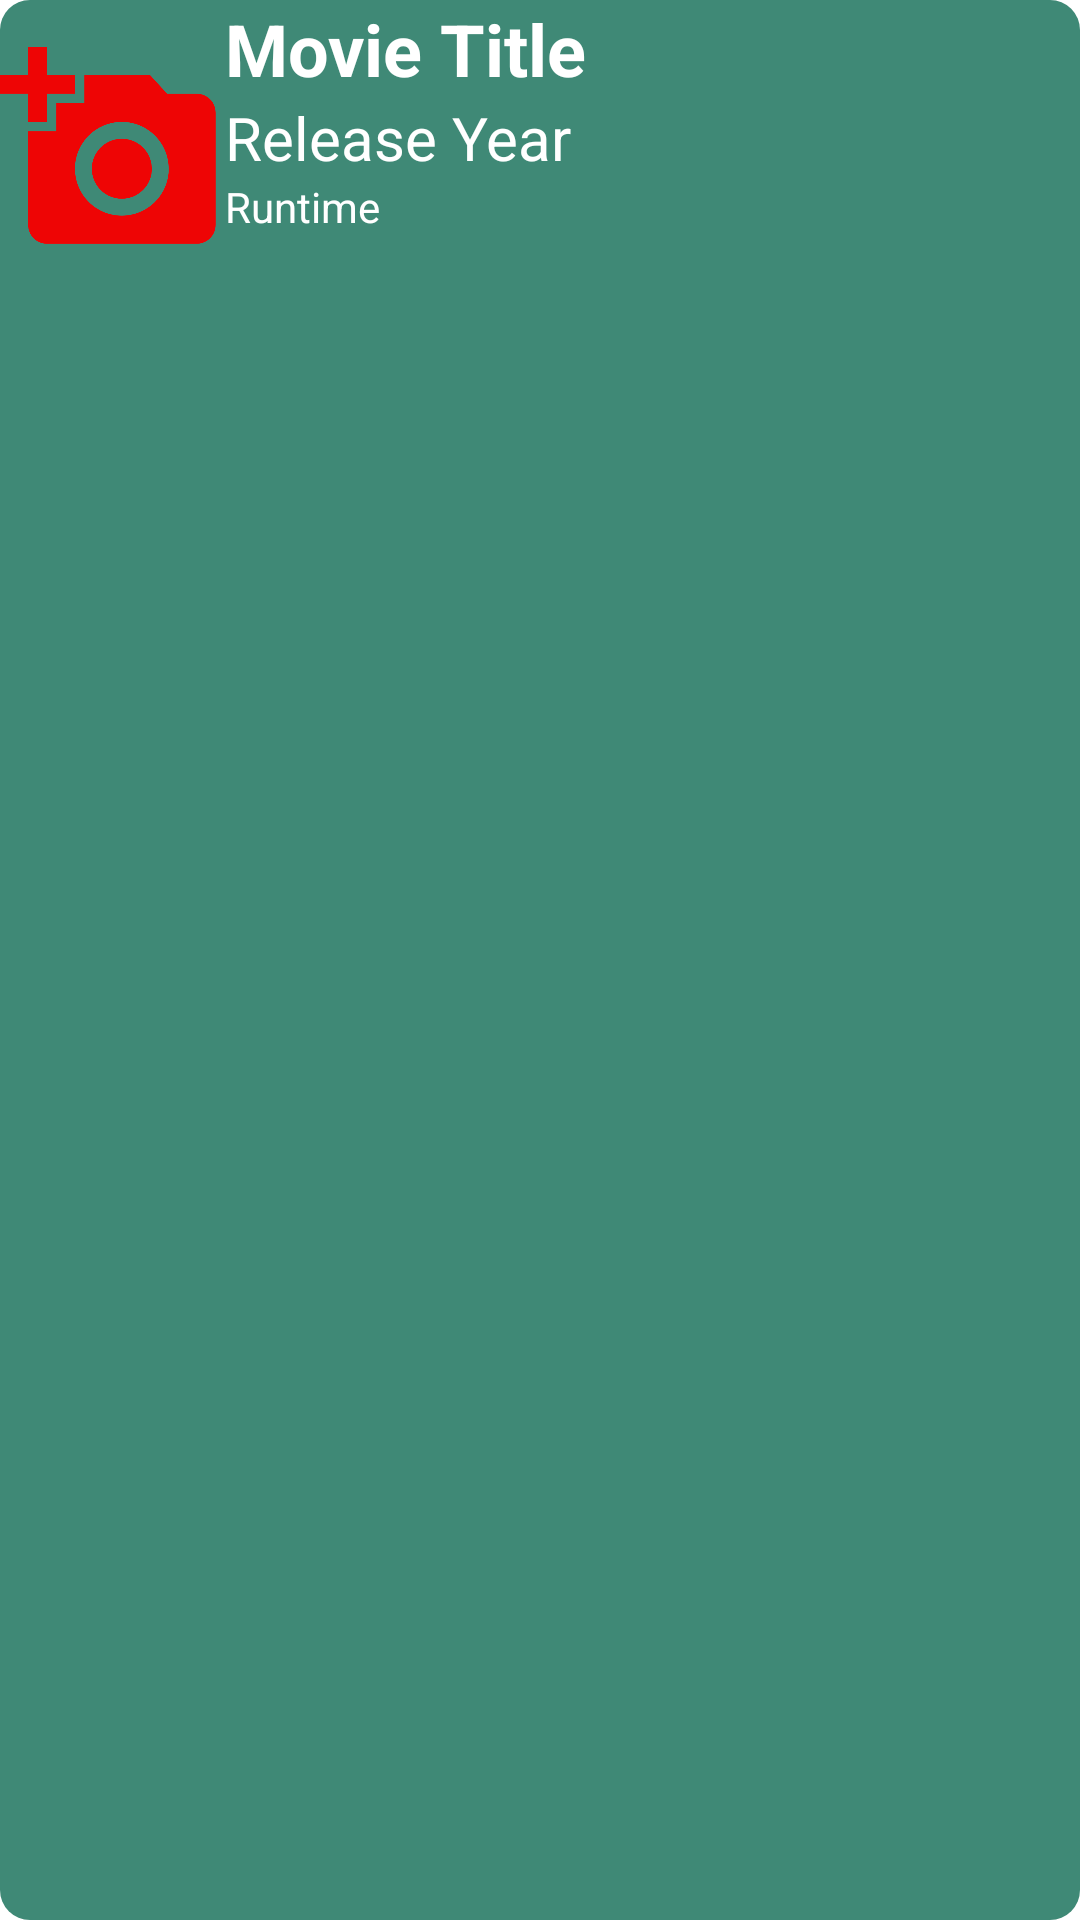

Icons on this 1080 × 1920 Android screen, each with the point to tap as [x,y]:
add photo: [108,122]
